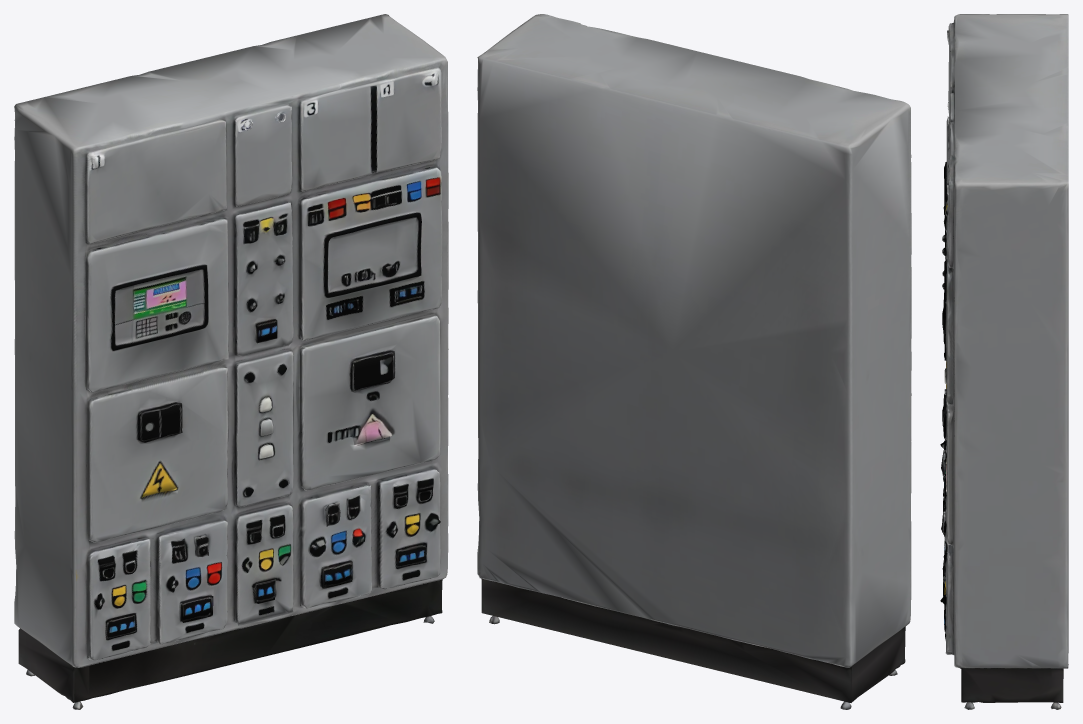
The model's file is electrical_control_panel_unit.glb.
3 renders of one model, left to right at view 1: azimuth 30°, elevation 25°; view 2: azimuth 150°, elevation 25°; view 3: azimuth 270°, elevation 25°, orthographic. The views are drawn at different scales.
Visible parts, largest first — view 1: Object_2; view 2: Object_2; view 3: Object_2.
Part boxes in pixels (bbox=[...]): Object_2: bbox=[14, 14, 448, 709]; Object_2: bbox=[477, 14, 911, 709]; Object_2: bbox=[940, 14, 1068, 709].
Size of the model in its own units: 1.31 by 1.9 by 0.4165.
Materials: 1 (1 with a texture image).
